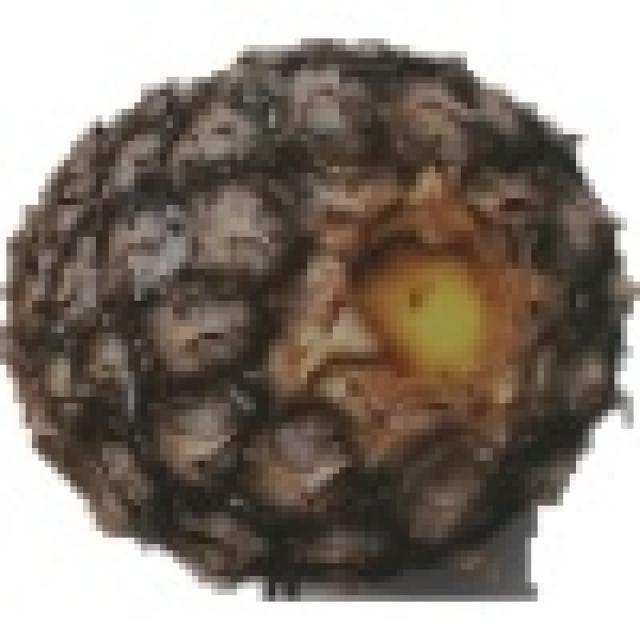pineapple: (0, 32, 608, 582)
